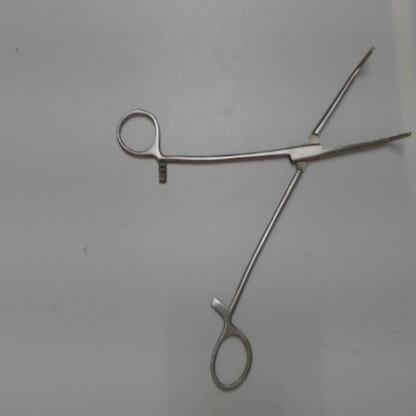Lahey Forceps: (109, 31, 415, 398)
